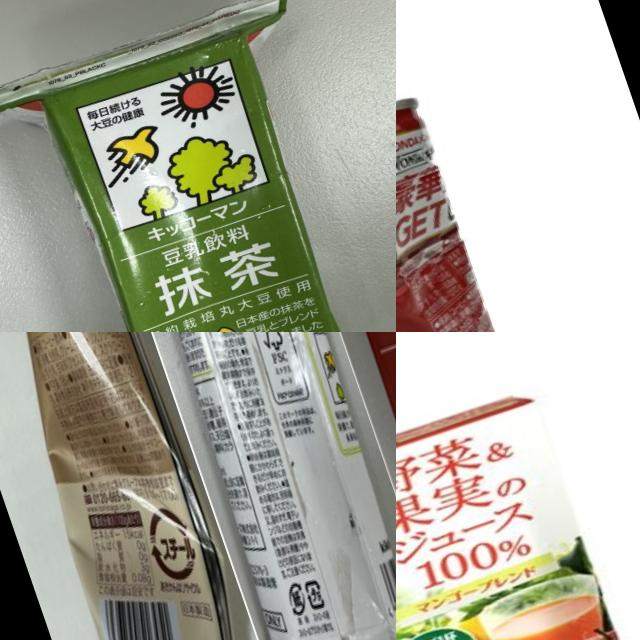Aluminium Foil: (0, 0, 396, 332), (108, 332, 396, 640), (396, 368, 640, 640), (275, 332, 396, 640), (396, 81, 514, 332)
Can: (0, 332, 278, 640)
